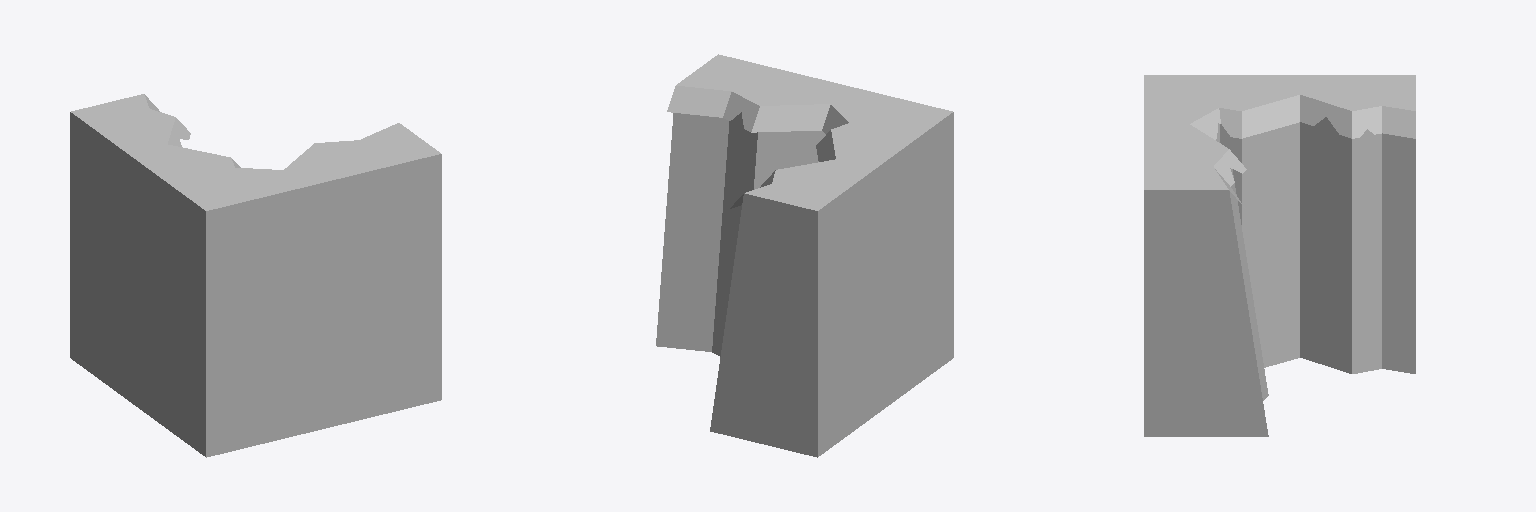
Rendered from cliffGrey_cornerInnerTop.obj.
3 views of the same model, side by side, from view 1: azimuth 30°, elevation 25°; view 2: azimuth 150°, elevation 25°; view 3: azimuth 270°, elevation 25° (orthographic).
Visible parts, largest first — view 1: cliffGrey_cornerInnerTop; view 2: cliffGrey_cornerInnerTop; view 3: cliffGrey_cornerInnerTop.
Boxes of the visible parts, x1=… form: cliffGrey_cornerInnerTop: x1=70, y1=94, x2=441, y2=457; cliffGrey_cornerInnerTop: x1=656, y1=54, x2=953, y2=457; cliffGrey_cornerInnerTop: x1=1144, y1=75, x2=1415, y2=436.
Size of the model in its own units: 10 by 10 by 10.